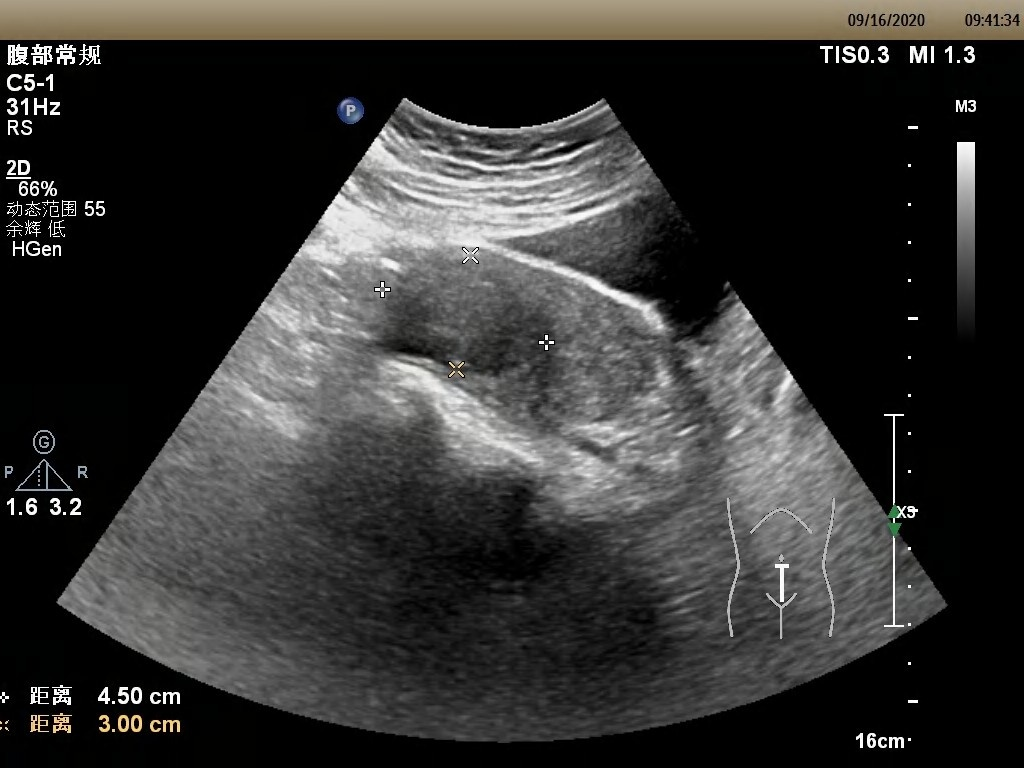肌瘤: (377, 250, 551, 372)
